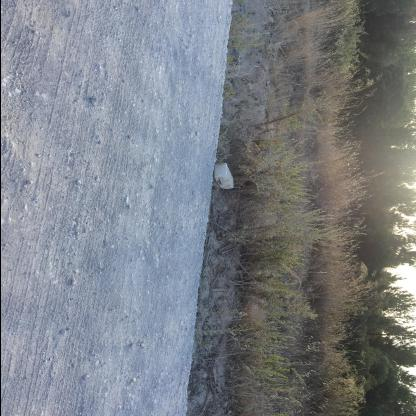kopuk: (213, 163, 233, 189)
